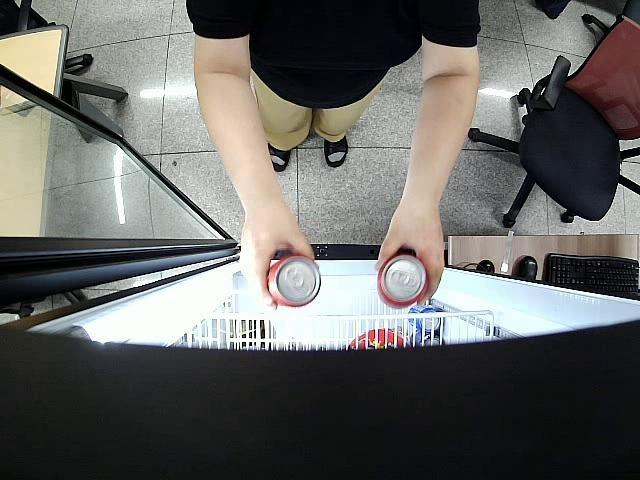11_cocaColaZero: (266, 252, 320, 307), (376, 253, 429, 308)
